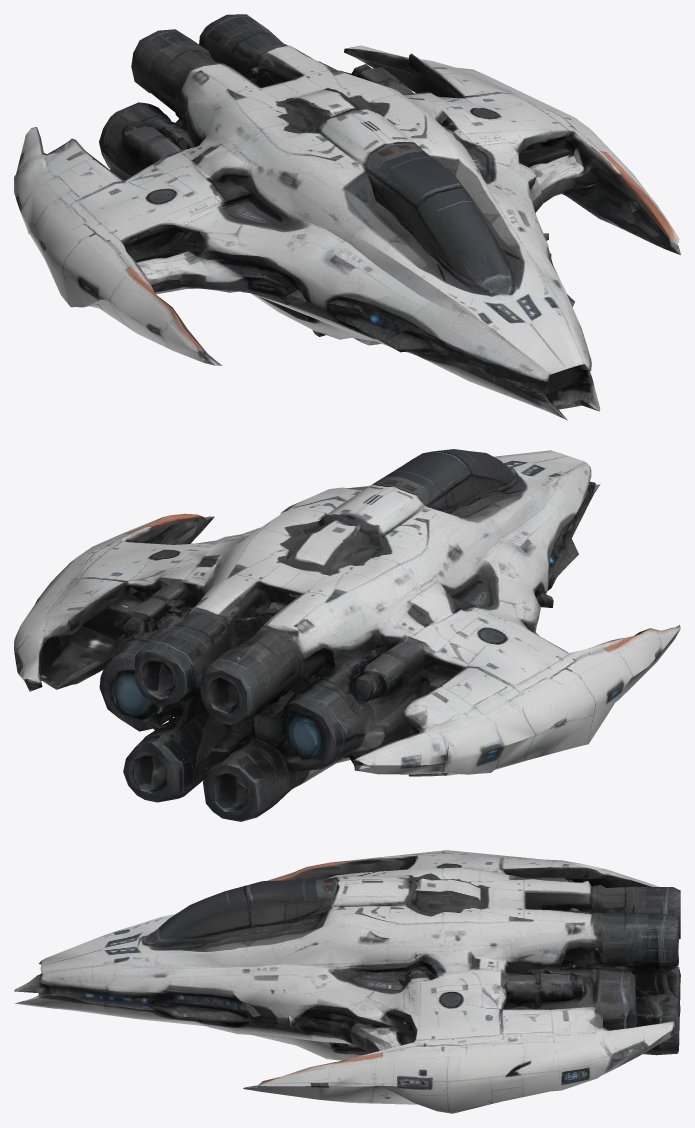
Rendered from human_heavy_lod0.glb.
3 renders of one model, top to bottom at view 1: azimuth 30°, elevation 25°; view 2: azimuth 150°, elevation 25°; view 3: azimuth 270°, elevation 25°, orthographic. The views are drawn at different scales.
Parts seen in each view (by area): view 1: EXPORT_heavy_lod0; view 2: EXPORT_heavy_lod0; view 3: EXPORT_heavy_lod0.
Part boxes in pixels (x1=…): EXPORT_heavy_lod0: x1=14, y1=14, x2=680, y2=420; EXPORT_heavy_lod0: x1=14, y1=449, x2=680, y2=821; EXPORT_heavy_lod0: x1=14, y1=850, x2=680, y2=1113.
Size of the model in its own units: 0.7802 by 0.2894 by 1.
5 materials, 5 textured.
